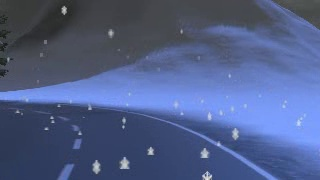Lane: (0, 100, 278, 179)
